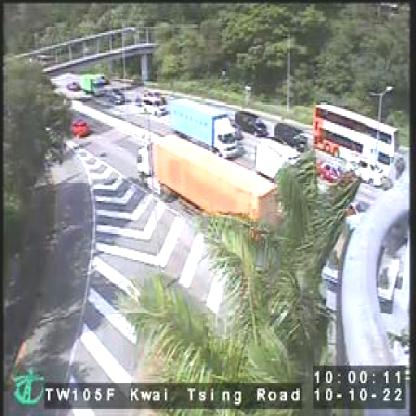Bus: (312, 104, 398, 171)
Car: (253, 134, 311, 178), (240, 113, 283, 142), (235, 107, 270, 138), (137, 90, 170, 116), (275, 125, 306, 150), (70, 115, 92, 138)
Truck: (137, 134, 274, 250), (171, 97, 239, 160)
